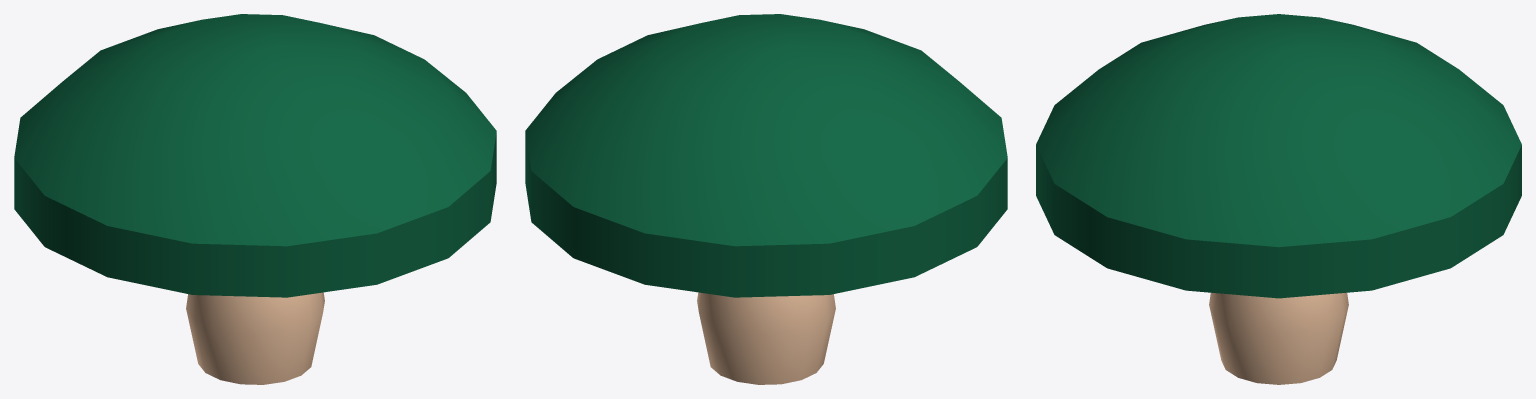
The model's file is jumpmush_green.fbx.
3 views of the same model, side by side, from view 1: azimuth 30°, elevation 25°; view 2: azimuth 150°, elevation 25°; view 3: azimuth 270°, elevation 25° (orthographic).
Visible parts, largest first — view 1: Cylinder.002; view 2: Cylinder.002; view 3: Cylinder.002.
Boxes of the visible parts, <box> form: Cylinder.002: <box>14,14,496,384</box>; Cylinder.002: <box>525,14,1007,384</box>; Cylinder.002: <box>1036,14,1521,384</box>.
Size of the model in its own units: 91.29 by 65.76 by 91.29.
